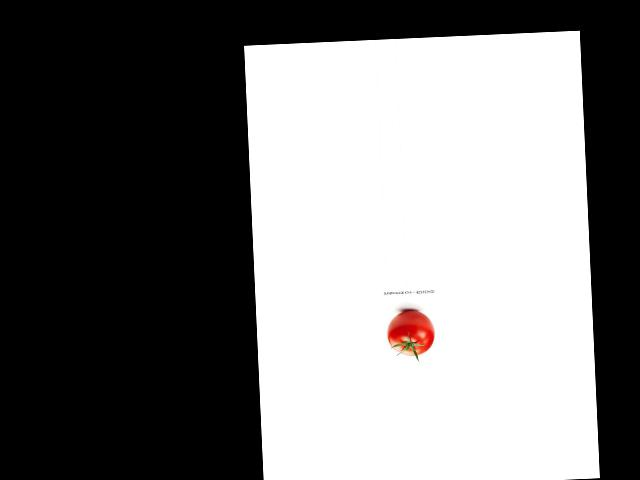tomato: (387, 309, 435, 356)
